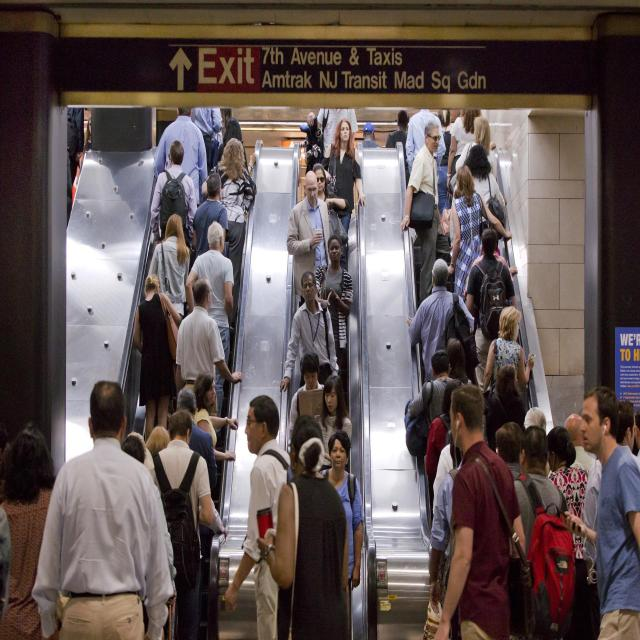body: (30, 374, 176, 640), (431, 378, 542, 640), (254, 411, 354, 639), (562, 384, 640, 640), (221, 394, 295, 640), (152, 409, 214, 640), (512, 424, 578, 639), (420, 380, 472, 638), (0, 418, 60, 640), (174, 276, 243, 450), (184, 221, 236, 443), (200, 134, 258, 332), (545, 424, 595, 640), (176, 386, 218, 632), (446, 163, 513, 298), (405, 256, 475, 384), (399, 118, 446, 304), (133, 272, 181, 444), (317, 428, 364, 592), (279, 270, 339, 394), (320, 118, 368, 272), (285, 168, 331, 308), (313, 233, 353, 389), (450, 144, 508, 250), (152, 106, 208, 210), (145, 212, 192, 330), (150, 140, 198, 251), (446, 109, 498, 209), (482, 305, 536, 395), (192, 370, 240, 462), (461, 228, 519, 302), (0, 423, 19, 640), (494, 404, 546, 478), (66, 106, 96, 234), (484, 364, 526, 454), (314, 374, 352, 472), (407, 348, 454, 426), (288, 351, 326, 443), (192, 171, 230, 261), (580, 478, 600, 640), (121, 424, 172, 485), (189, 104, 232, 175), (432, 108, 454, 242), (405, 107, 447, 176), (455, 115, 498, 182), (303, 162, 351, 218), (307, 108, 356, 160), (564, 411, 602, 478), (216, 116, 257, 176), (384, 109, 410, 192), (610, 396, 640, 459), (446, 336, 472, 388), (359, 117, 384, 151)
